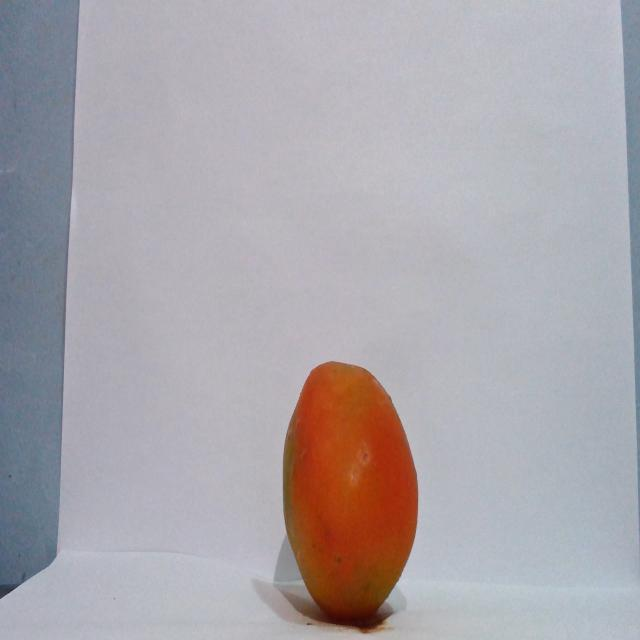Red: (280, 359, 419, 622)
